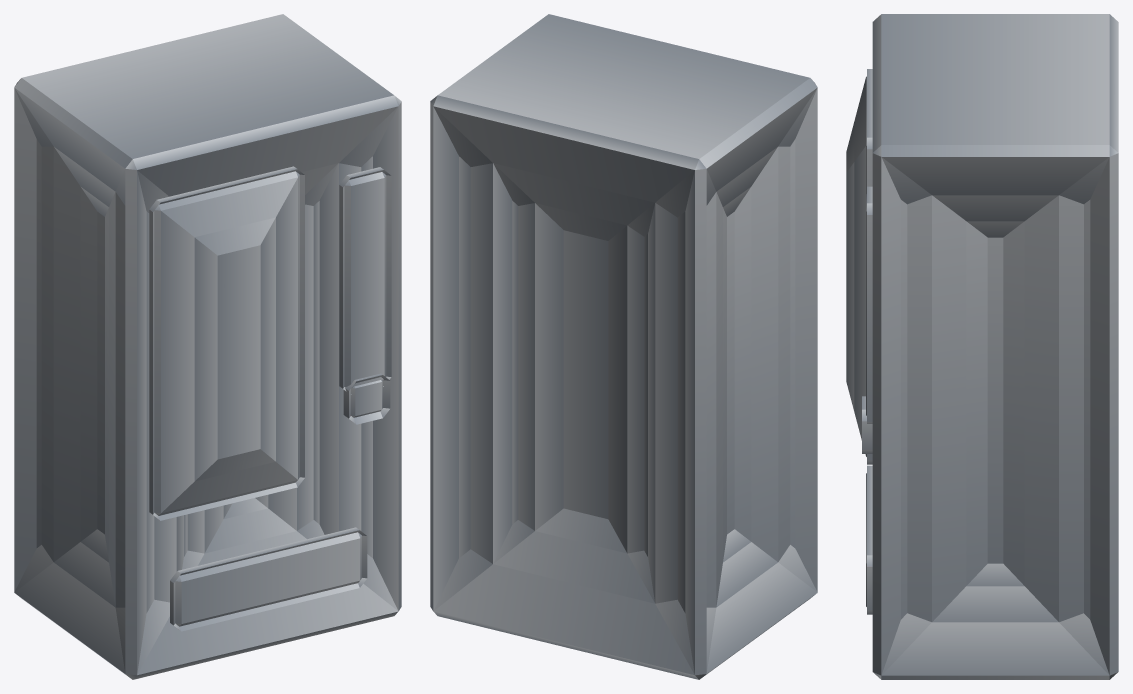
Rendered from dt_vending_machine.fbx.
3 views of the same model, side by side, from view 1: azimuth 30°, elevation 25°; view 2: azimuth 150°, elevation 25°; view 3: azimuth 270°, elevation 25° (orthographic). The views are drawn at different scales.
Visible parts, largest first — view 1: dt_vending_machine; view 2: dt_vending_machine; view 3: dt_vending_machine.
Boxes of the visible parts, left/top/right/bottom form: dt_vending_machine: left=14, top=14, right=401, bottom=679; dt_vending_machine: left=430, top=14, right=817, bottom=679; dt_vending_machine: left=846, top=14, right=1118, bottom=679.
Bounding box in the file's own units: 389 × 700 × 323.
